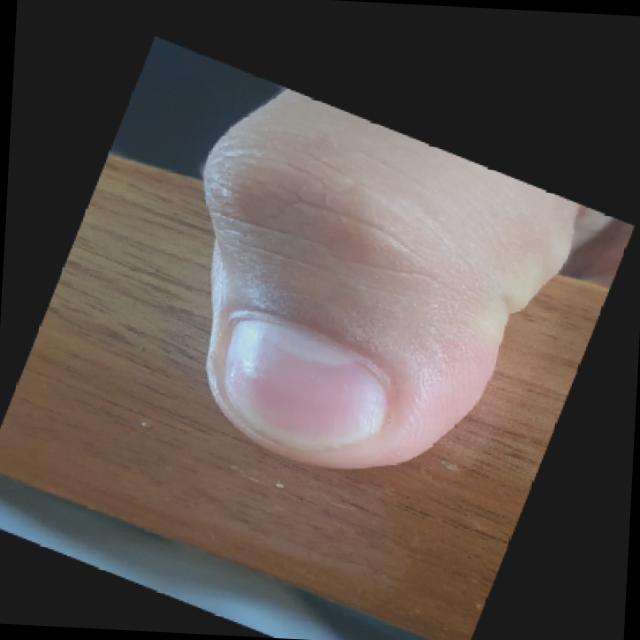Nail: (220, 315, 386, 451)
